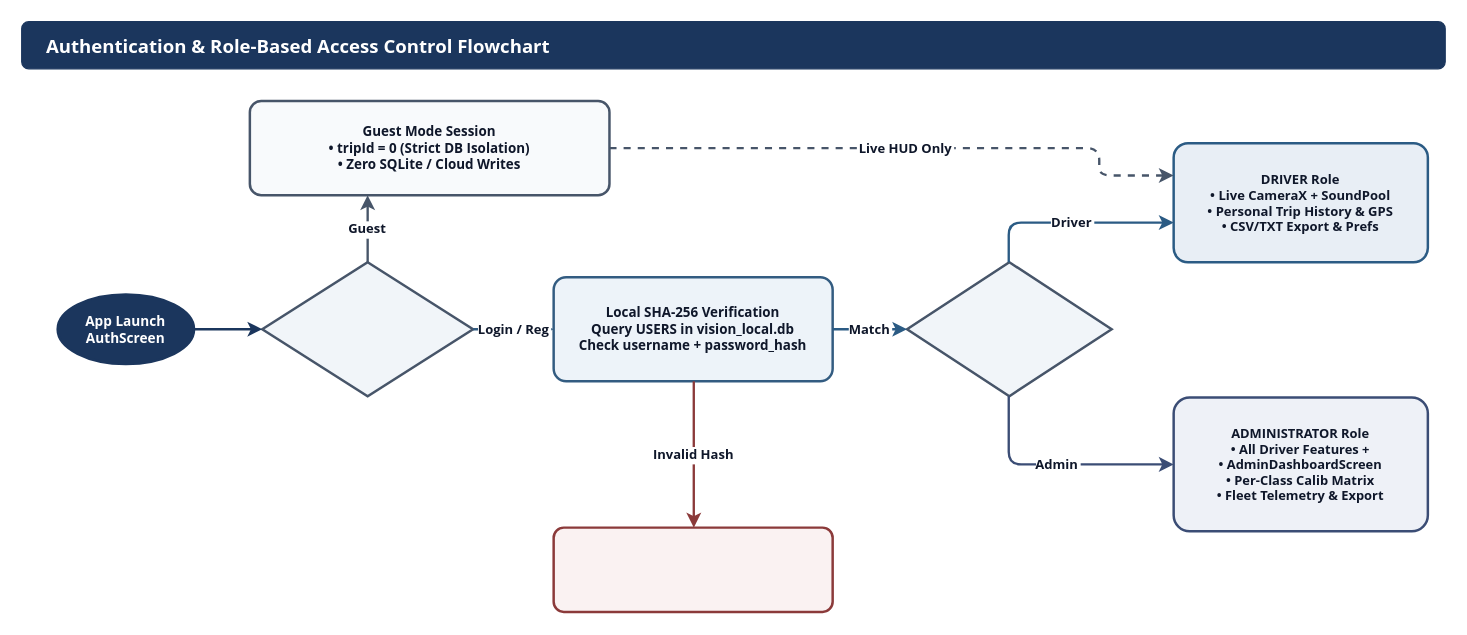
This 1467x635 diagram has some shape labels left out. The shapes that lost their labels are listed below. From the top down, each one's centre as x and y in pixels, then its label:
At pixel 367 328: "Entry Mode Selected?".
At pixel 1008 328: "Authenticated User Role?".
At pixel 692 569: "Deny Access & Retry Display Bilingual Auth Error".
